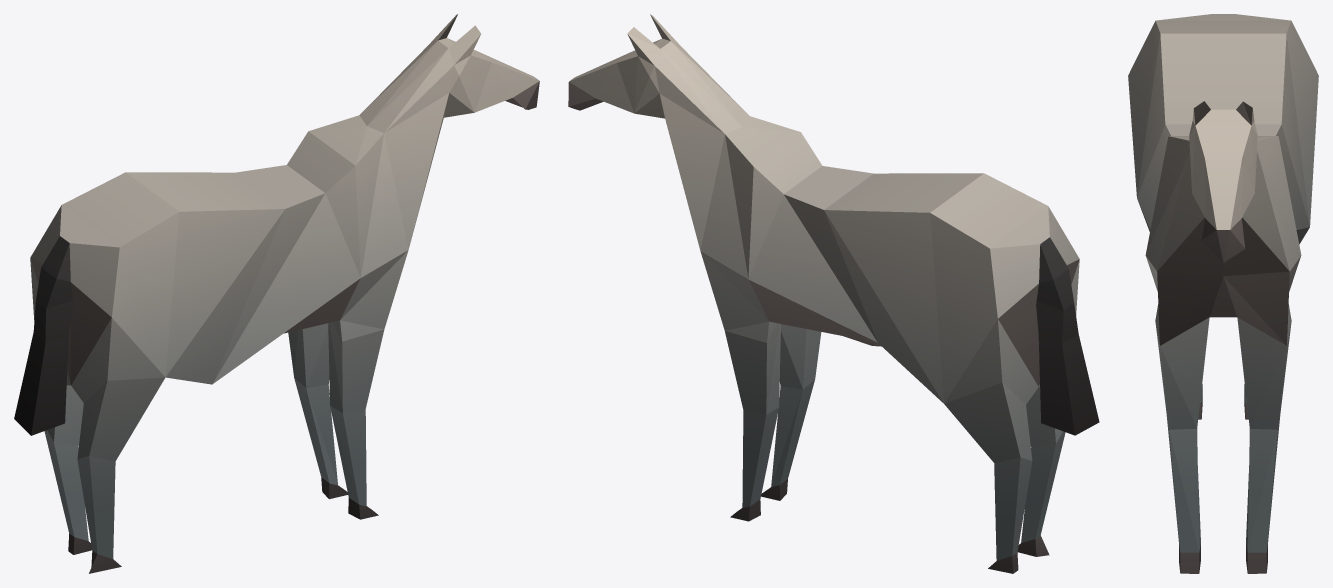
File: Horse _MedievalFantasyAssets.glb
The picture shows the model from 3 angles, left to right: view 1: azimuth 30°, elevation 25°; view 2: azimuth 150°, elevation 25°; view 3: azimuth 270°, elevation 25°; orthographic projection. The views are drawn at different scales.
Parts seen in each view (by area): view 1: Object_2; view 2: Object_2; view 3: Object_2.
Part boxes in pixels (box(x1,y1,x2,y2)): Object_2: box(14, 14, 539, 573); Object_2: box(568, 14, 1099, 573); Object_2: box(1128, 14, 1318, 573).
Size of the model in its own units: 0.9601 by 0.8114 by 0.263.
Materials: 1 (1 with a texture image).
